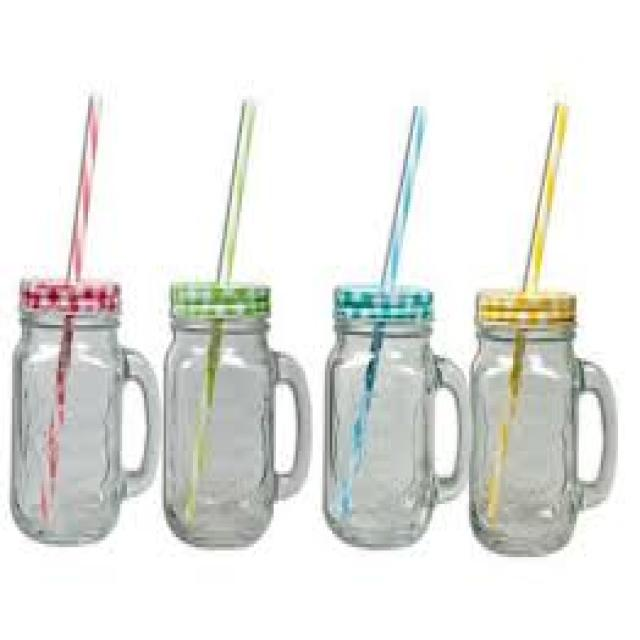glass: (464, 325, 616, 550), (161, 315, 308, 547), (12, 312, 159, 541), (325, 322, 466, 541)
metal: (15, 275, 117, 312), (330, 285, 430, 322), (166, 279, 266, 315), (471, 286, 574, 319)
